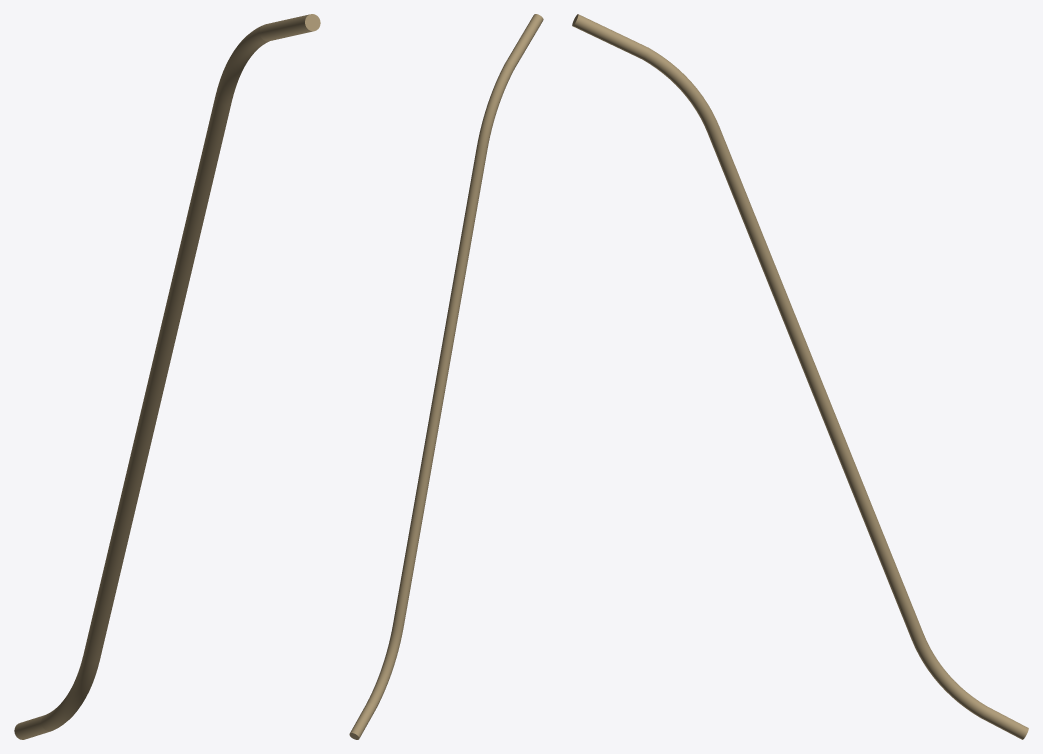
File: original-2.obj
3 views of the same model, side by side, from view 1: azimuth 30°, elevation 25°; view 2: azimuth 150°, elevation 25°; view 3: azimuth 270°, elevation 25° (orthographic). The views are drawn at different scales.
Visible parts, largest first — view 1: Group2/mesh3/mesh3-geometry#mesh3-geometry; view 2: Group2/mesh3/mesh3-geometry#mesh3-geometry; view 3: Group2/mesh3/mesh3-geometry#mesh3-geometry.
Boxes of the visible parts, bbox=[...] form: Group2/mesh3/mesh3-geometry#mesh3-geometry: bbox=[14, 14, 320, 739]; Group2/mesh3/mesh3-geometry#mesh3-geometry: bbox=[349, 14, 543, 739]; Group2/mesh3/mesh3-geometry#mesh3-geometry: bbox=[572, 14, 1028, 739].
Bounding box in the file's own units: 0.00889 × 0.5263 × 0.3007.
